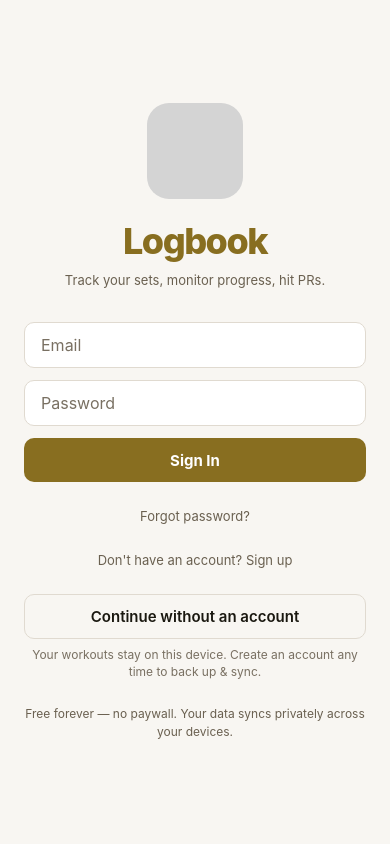
AuthScreen › mode toggling › switches back to sign-in mode on second click
Click the button with class "authModeSwitch" at coordinates (195, 560), box [98,538,292,582]
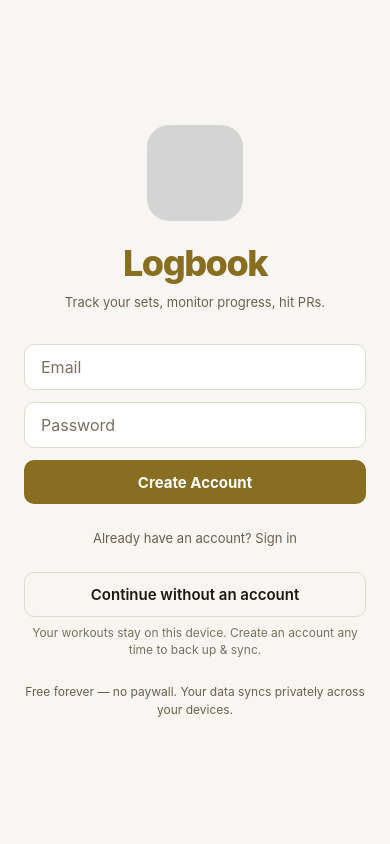
Click the button with class "authModeSwitch" at coordinates (195, 538), box [93,516,297,560]
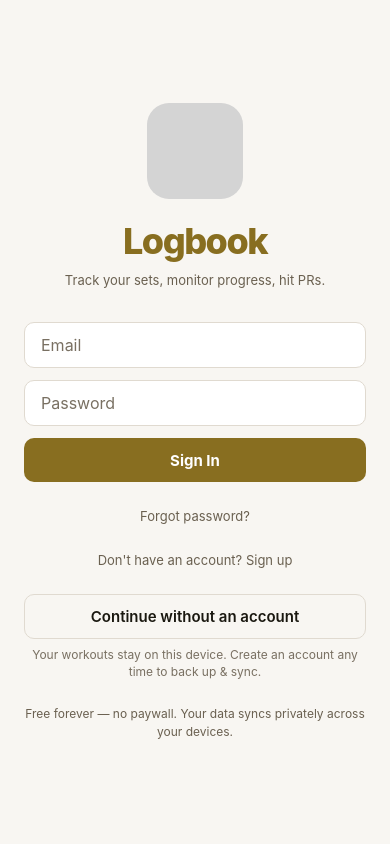
Expected: the button with class "authSubmitBtn" reads "Sign In", [24,438,366,482]
